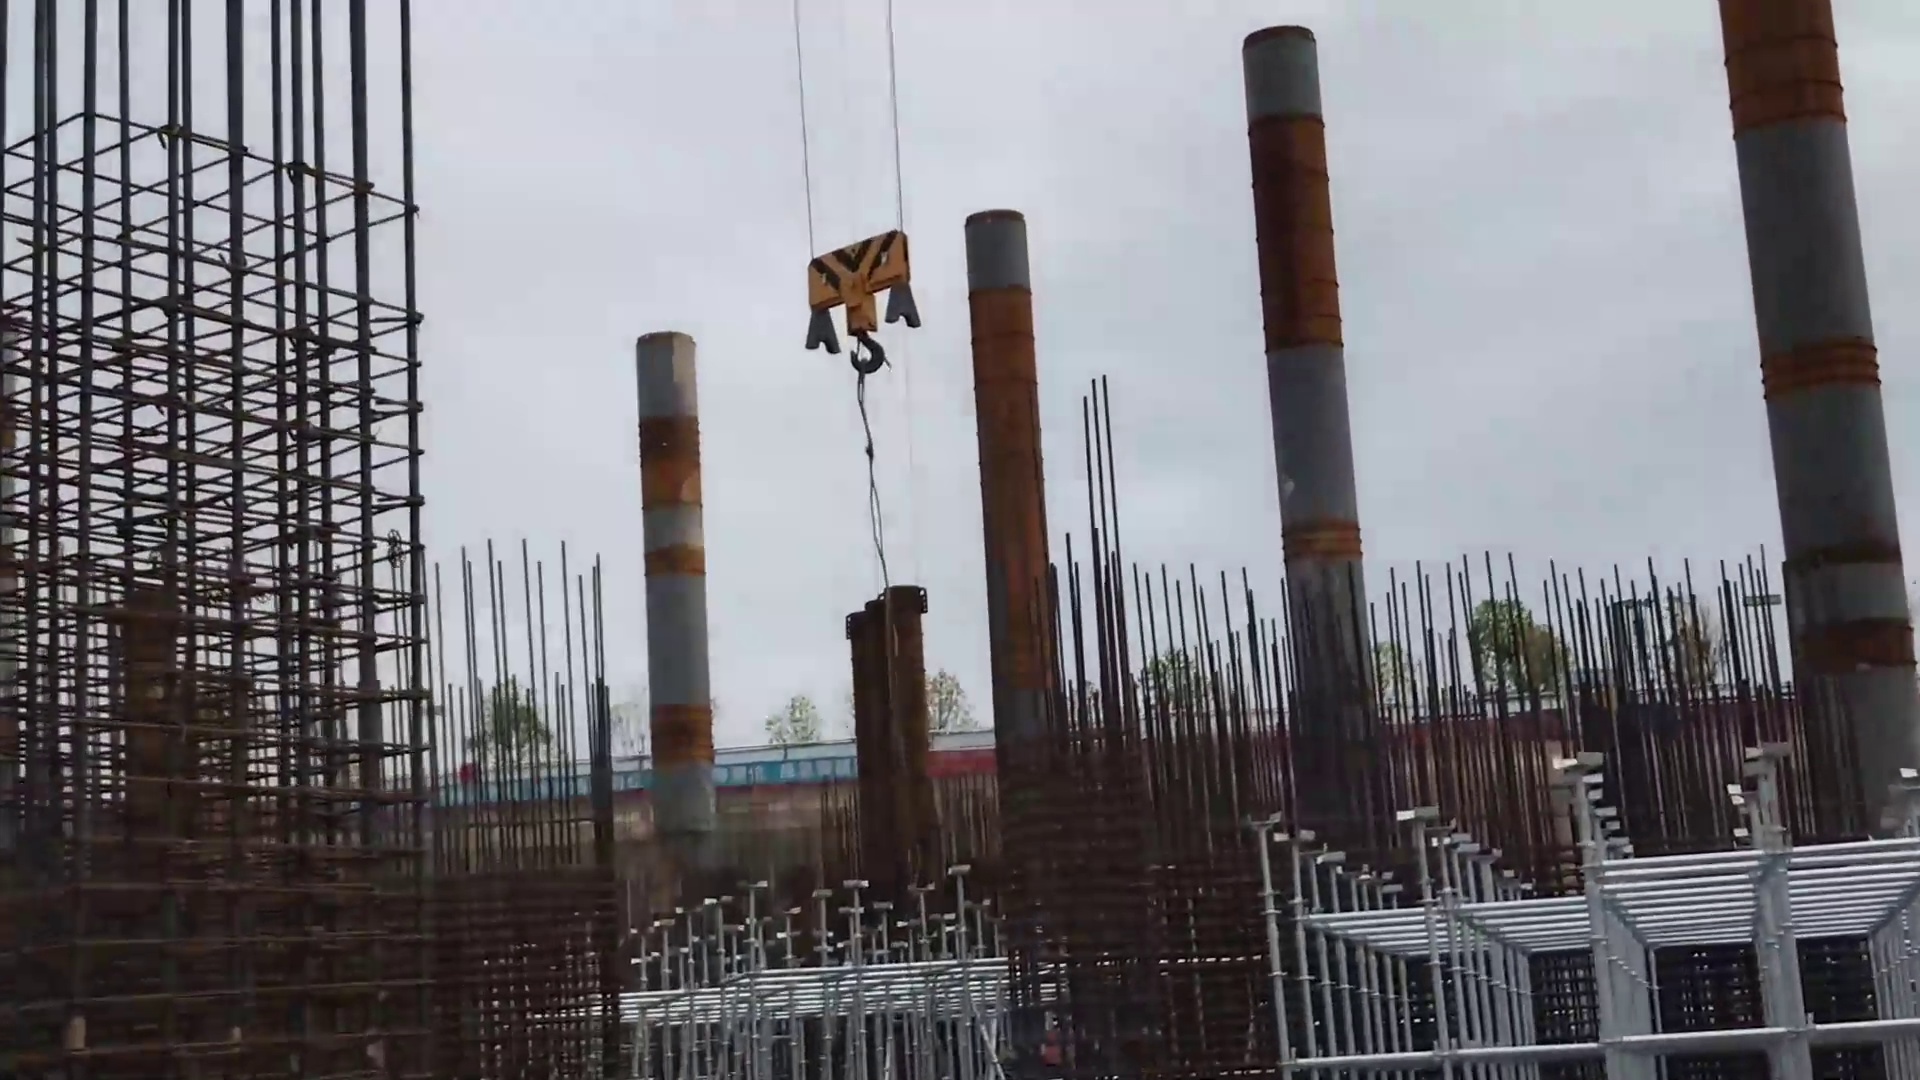hook: (789, 219, 928, 388)
